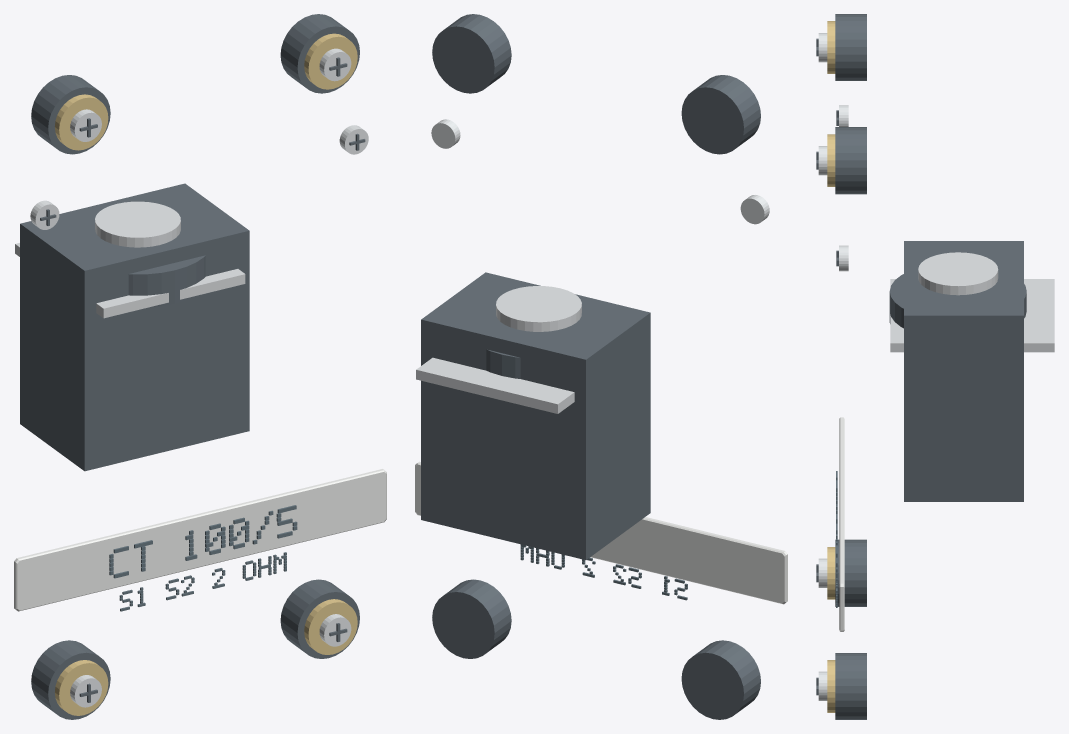
The model's file is currentTransformer.glb.
The picture shows the model from 3 angles, left to right: view 1: azimuth 30°, elevation 25°; view 2: azimuth 150°, elevation 25°; view 3: azimuth 270°, elevation 25°; orthographic projection. The views are drawn at different scales.
Visible parts, largest first — view 1: currentTransformer-detailed; view 2: currentTransformer-detailed; view 3: currentTransformer-detailed.
Boxes of the visible parts, bbox=[...] form: currentTransformer-detailed: bbox=[14, 14, 386, 719]; currentTransformer-detailed: bbox=[415, 14, 787, 719]; currentTransformer-detailed: bbox=[816, 14, 1054, 719].
Bounding box in the file's own units: 1.86 × 3.02 × 1.11.
